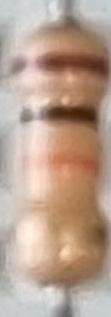Brown: (16, 100, 101, 128)
Orange: (16, 153, 101, 178)
Red: (9, 51, 109, 80)
Side-Silver: (11, 217, 104, 257)
